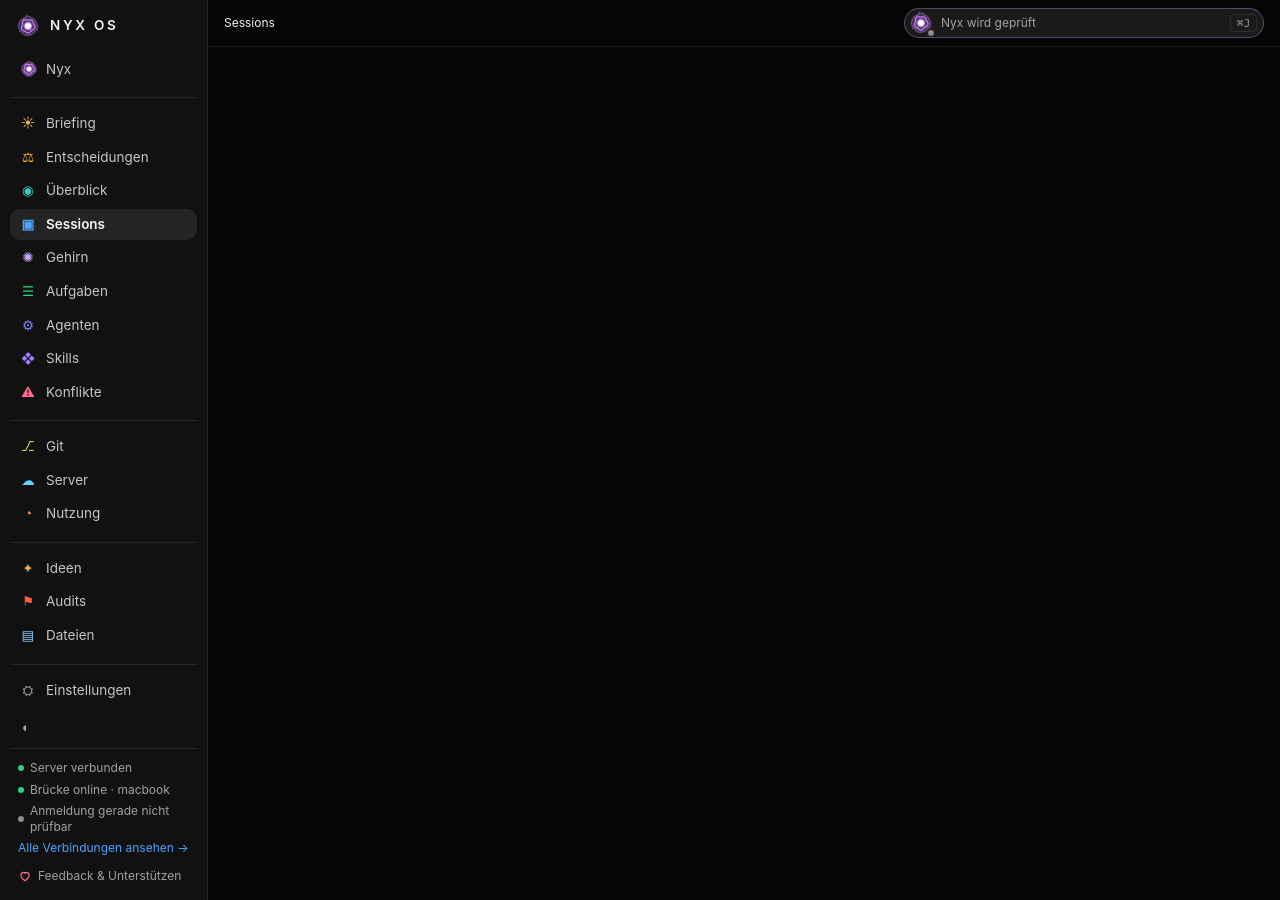
Test: Routing › Aufgaben-Tab ist aktiv und navigierbar
Step 1. Click the link "☰ Aufgaben" → (65, 291), box [22,283,108,299]
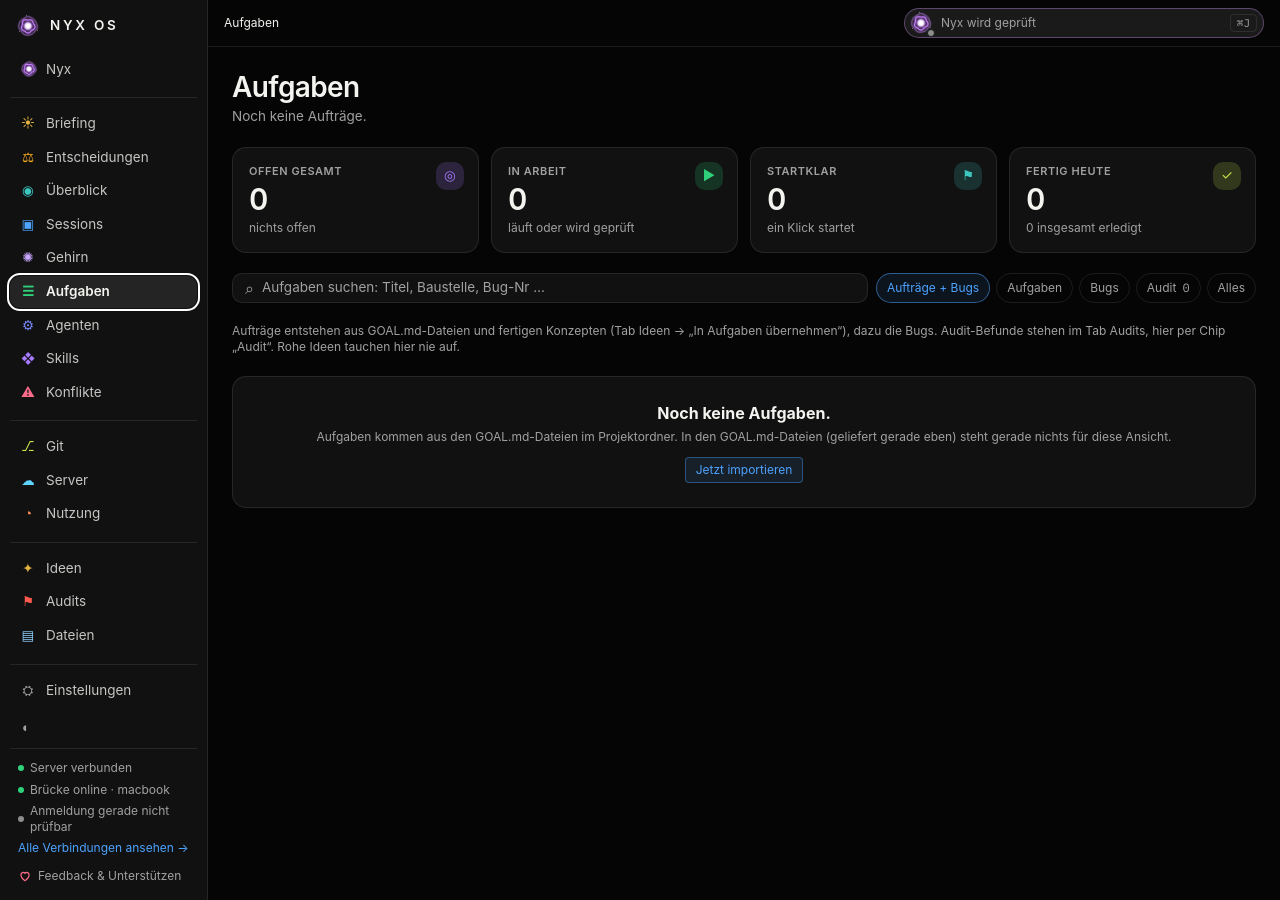
Expected: the text "Offen gesamt" is shown, [249,164,342,178]
